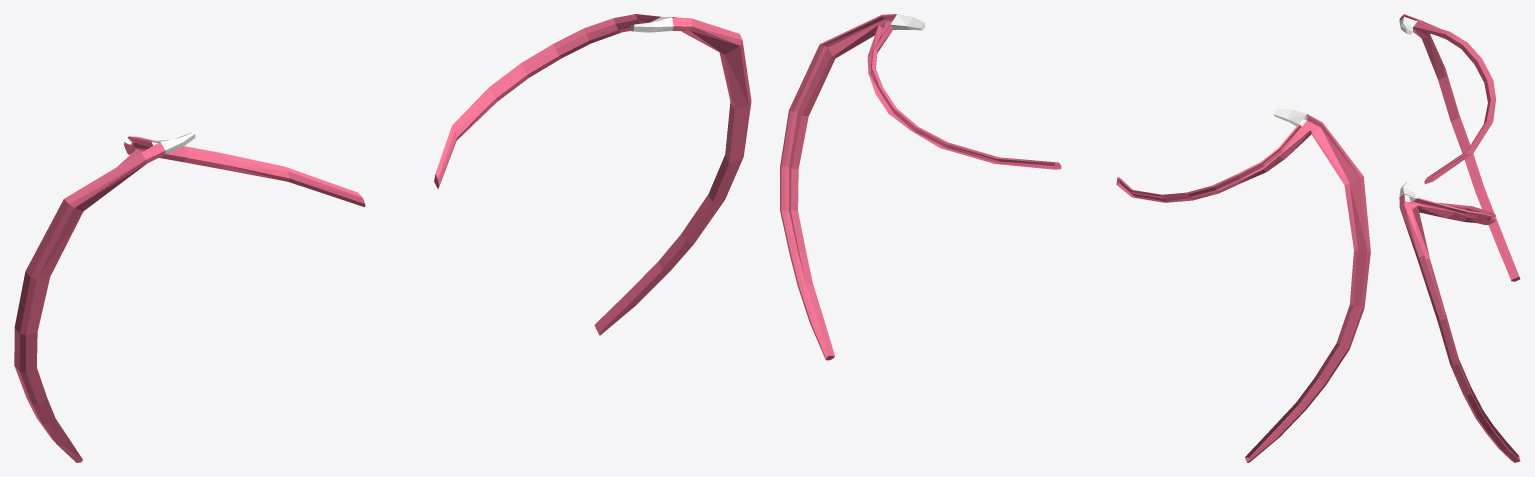
Rendered from dpBdyEmpuje_aTxt_c.obj.
The picture shows the model from 3 angles, left to right: view 1: azimuth 30°, elevation 25°; view 2: azimuth 150°, elevation 25°; view 3: azimuth 270°, elevation 25°; orthographic projection. The views are drawn at different scales.
Parts seen in each view (by area): view 1: dpBdyEmpuje_aTxt_c.obj; view 2: dpBdyEmpuje_aTxt_c.obj; view 3: dpBdyEmpuje_aTxt_c.obj.
Boxes of the visible parts, x1,y1,x2,y2 form: dpBdyEmpuje_aTxt_c.obj: (14,14,751,462); dpBdyEmpuje_aTxt_c.obj: (780,14,1370,462); dpBdyEmpuje_aTxt_c.obj: (1399,14,1520,462).
Size of the model in its own units: 6.86 by 3.4 by 1.4.
